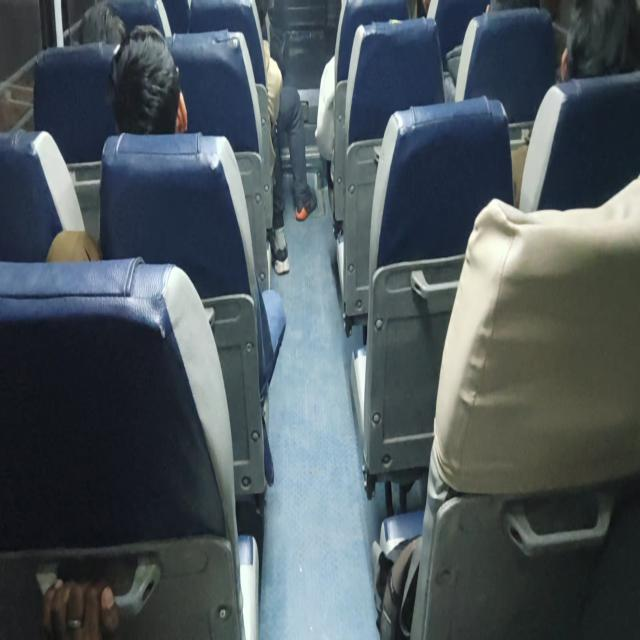person: (554, 0, 638, 96), (129, 38, 193, 128), (72, 0, 137, 47)
